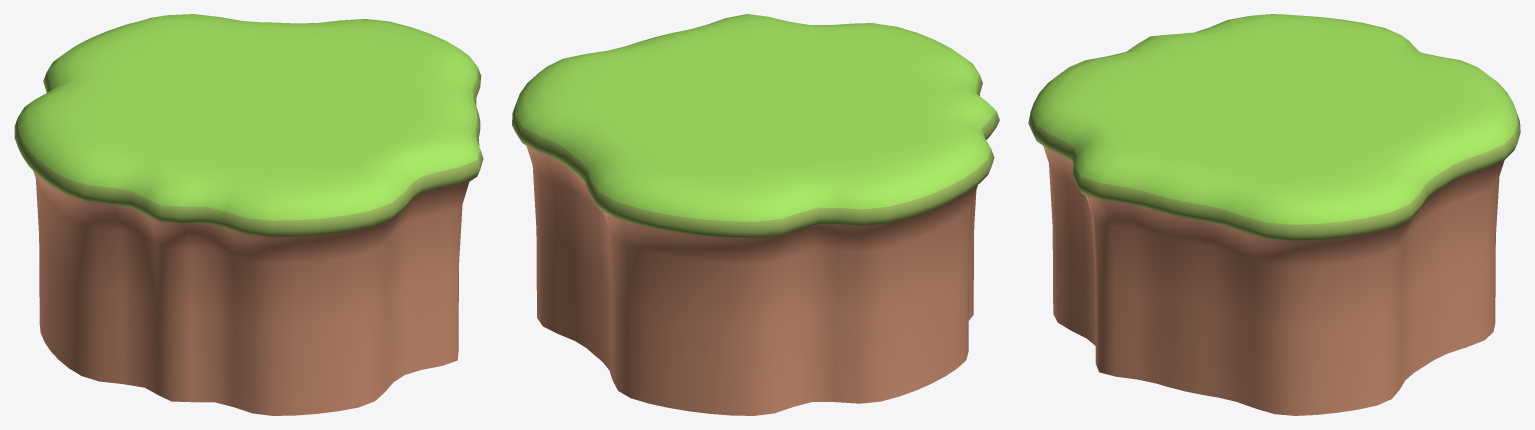
The model's file is Ground_V1.fbx.
3 views of the same model, side by side, from view 1: azimuth 30°, elevation 25°; view 2: azimuth 150°, elevation 25°; view 3: azimuth 270°, elevation 25° (orthographic). The views are drawn at different scales.
Visible parts, largest first — view 1: Circle.015; view 2: Circle.015; view 3: Circle.015.
Part boxes in pixels (x1,y1,x2,y2): Circle.015: [14, 14, 483, 415]; Circle.015: [512, 14, 999, 415]; Circle.015: [1028, 14, 1520, 415].
Bounding box in the file's own units: 1837 × 895 × 1837.
